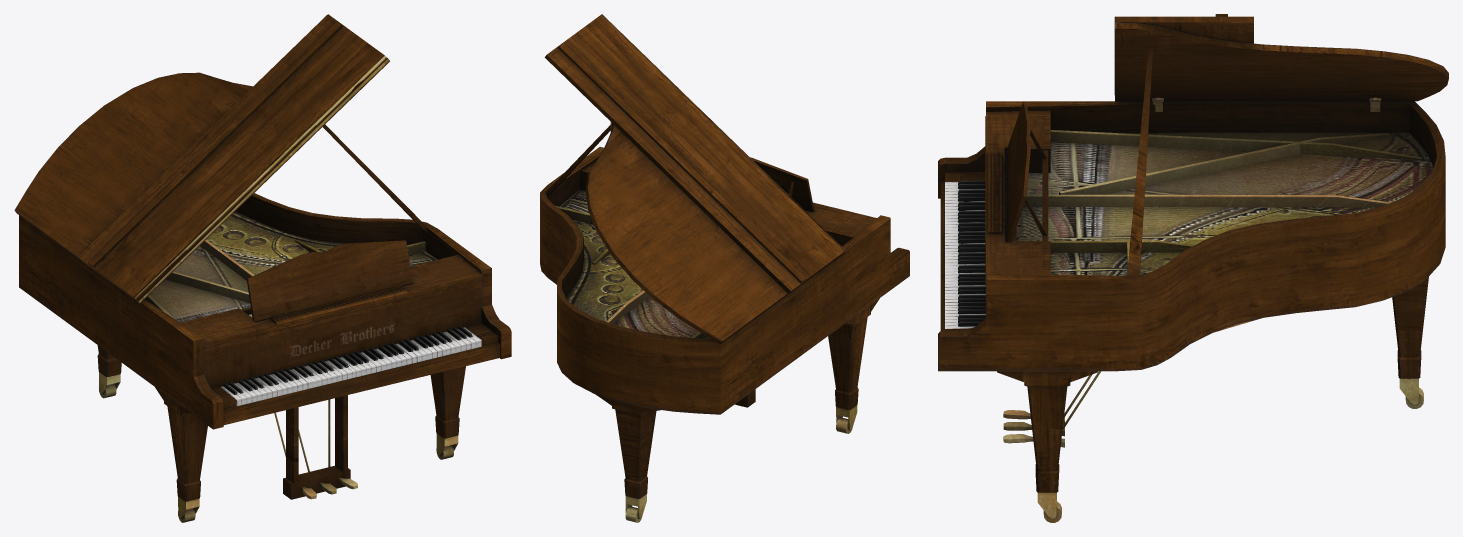
File: piano.fbx
3 views of the same model, side by side, from view 1: azimuth 30°, elevation 25°; view 2: azimuth 150°, elevation 25°; view 3: azimuth 270°, elevation 25° (orthographic). The views are drawn at different scales.
Visible parts, largest first — view 1: piano; view 2: piano; view 3: piano.
Part boxes in pixels (box(x1,y1,x2,y2)): piano: box(14, 14, 511, 522); piano: box(540, 14, 909, 522); piano: box(938, 14, 1448, 522).
Size of the model in its own units: 1.72 by 2.12 by 2.03.
Materials: 1 (1 with a texture image).
